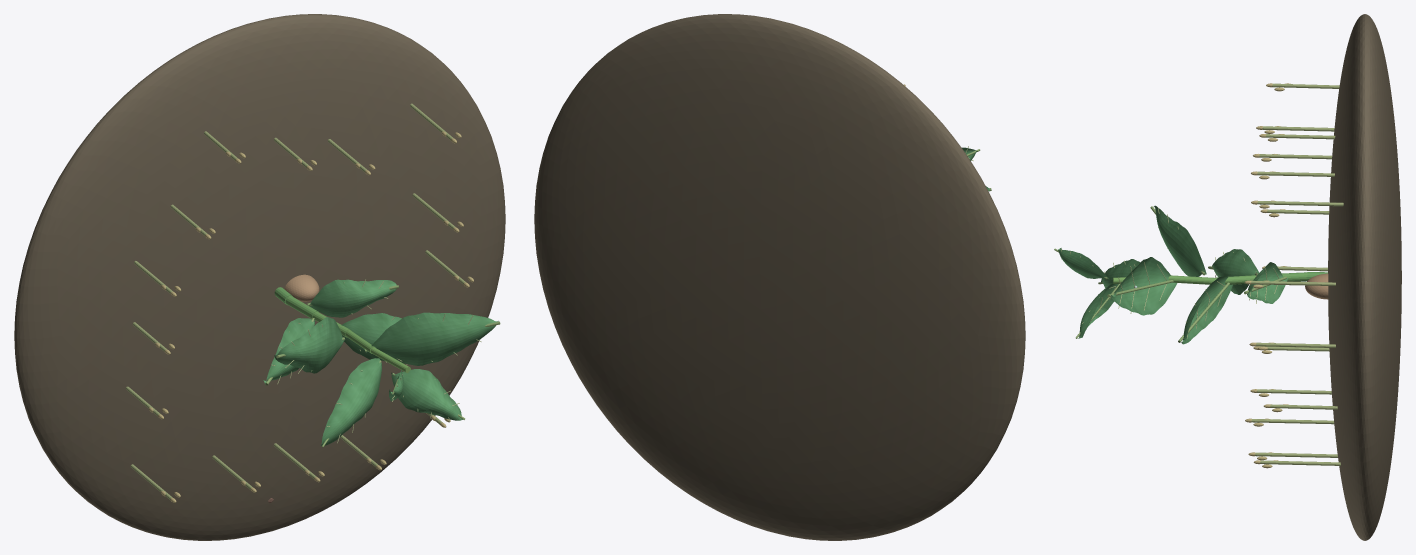
File: agridelta_seed_to_harvest_model.glb
3 views of the same model, side by side, from view 1: azimuth 30°, elevation 25°; view 2: azimuth 150°, elevation 25°; view 3: azimuth 270°, elevation 25° (orthographic). The views are drawn at different scales.
Visible parts, largest first — view 1: Living soil · textured mound, Leaf organic blade 4, Leaf organic blade 5, Leaf organic blade 0, Leaf organic blade 3, Leaf organic blade 6, Leaf organic blade 2, Leaf organic blade 1, Split seed shell; view 2: Living soil · textured mound; view 3: Living soil · textured mound, Leaf organic blade 4, Leaf organic blade 3, Leaf organic blade 2, Leaf organic blade 1, Leaf organic blade 0, Leaf organic blade 7, Leaf organic blade 6, Leaf organic blade 5, Split seed shell.
Part boxes in pixels (<box>): Living soil · textured mound: <box>14,14,505,540</box>; Leaf organic blade 4: <box>364,312,498,365</box>; Leaf organic blade 5: <box>320,358,381,445</box>; Leaf organic blade 0: <box>309,279,396,317</box>; Leaf organic blade 3: <box>274,317,344,373</box>; Leaf organic blade 6: <box>391,369,462,420</box>; Leaf organic blade 2: <box>341,313,401,360</box>; Leaf organic blade 1: <box>263,318,314,384</box>; Split seed shell: <box>284,274,319,301</box>; Living soil · textured mound: <box>534,14,1025,540</box>; Living soil · textured mound: <box>1328,14,1401,540</box>; Leaf organic blade 4: <box>1110,257,1177,315</box>; Leaf organic blade 3: <box>1153,205,1206,276</box>; Leaf organic blade 2: <box>1181,276,1232,344</box>; Leaf organic blade 1: <box>1212,249,1258,294</box>; Leaf organic blade 0: <box>1247,262,1287,303</box>; Leaf organic blade 7: <box>1058,248,1109,279</box>; Leaf organic blade 6: <box>1078,282,1118,338</box>; Leaf organic blade 5: <box>1101,259,1140,287</box>; Split seed shell: <box>1305,273,1328,299</box>.
Size of what is drawn, in the model's own units: 4.4 by 4.4 by 2.9.
